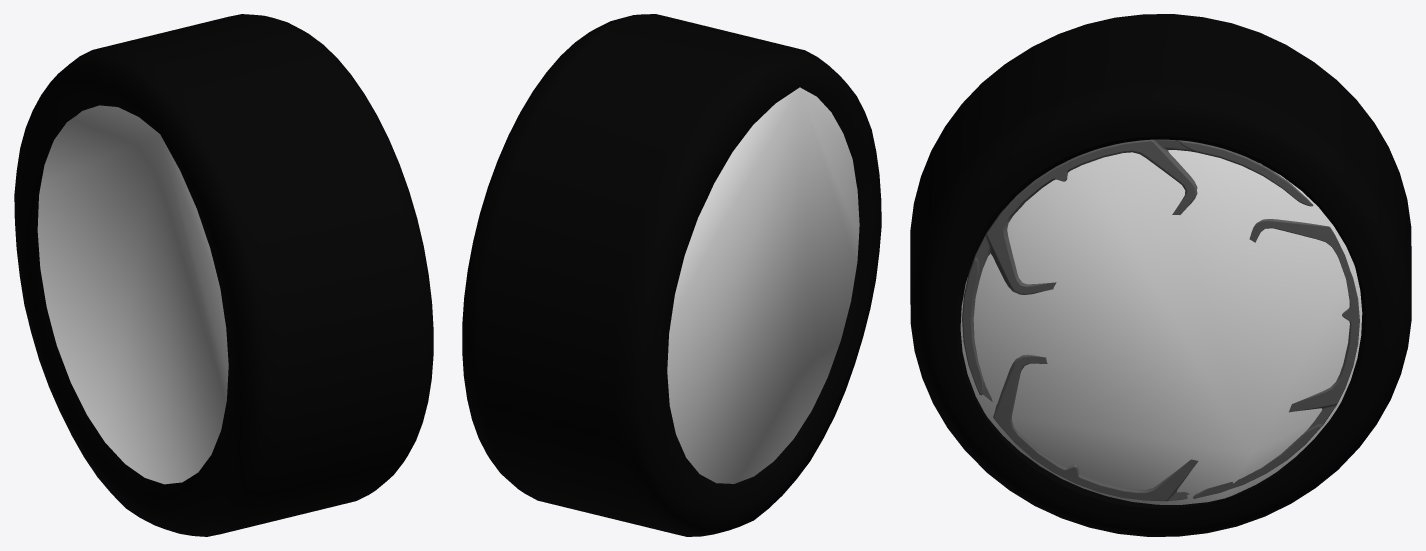
3 renders of one model, left to right at view 1: azimuth 30°, elevation 25°; view 2: azimuth 150°, elevation 25°; view 3: azimuth 270°, elevation 25°, orthographic.
Parts seen in each view (by area): view 1: wheel_eclipse_rear_01, wheel_eclipse_rear_01_col; view 2: wheel_eclipse_rear_01, wheel_eclipse_rear_01_col; view 3: wheel_eclipse_rear_01, wheel_eclipse_rear_01_col.
Boxes of the visible parts, x1,y1,x2,y2 form: wheel_eclipse_rear_01: (14, 14, 433, 536); wheel_eclipse_rear_01_col: (37, 105, 228, 484); wheel_eclipse_rear_01: (462, 14, 881, 536); wheel_eclipse_rear_01_col: (667, 87, 859, 483); wheel_eclipse_rear_01: (910, 14, 1411, 536); wheel_eclipse_rear_01_col: (960, 150, 1362, 504).
Bounding box in the file's own units: 0.3225 × 0.7189 × 0.7189.
4 materials, 3 textured.
